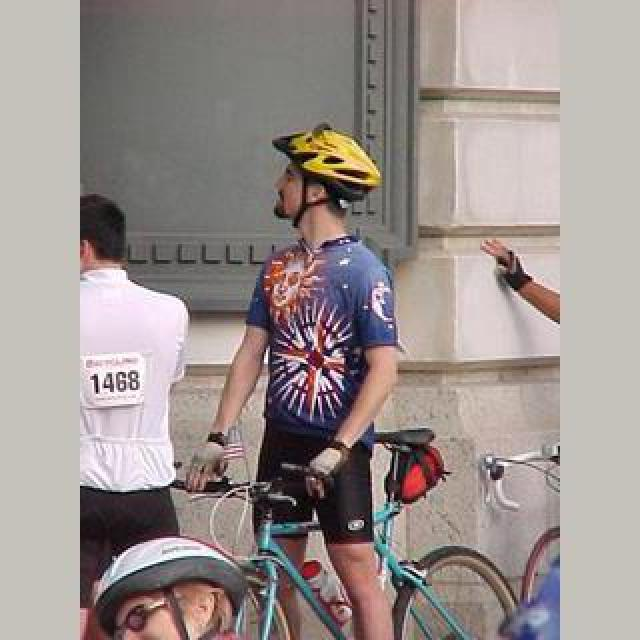MC-Bike: (198, 134, 402, 638), (78, 192, 194, 610), (90, 538, 248, 640), (480, 238, 560, 324)
Person: (169, 432, 513, 638), (481, 435, 559, 635)
